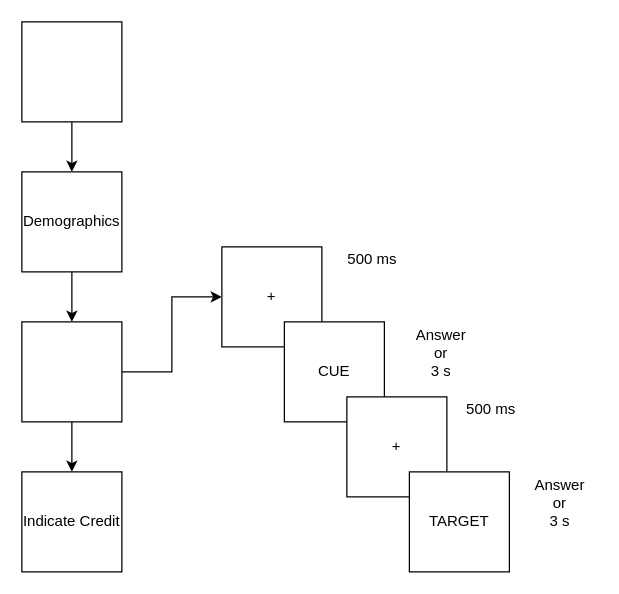
Image size: 619x594. Some labels were removed from this diagram. The shapes that lost their labels are listed below. From the top down, each one's centre as x and y in pixels, then its label:
At point (71, 71): "Select Language".
At point (71, 371): "Lexical Decision Task".
